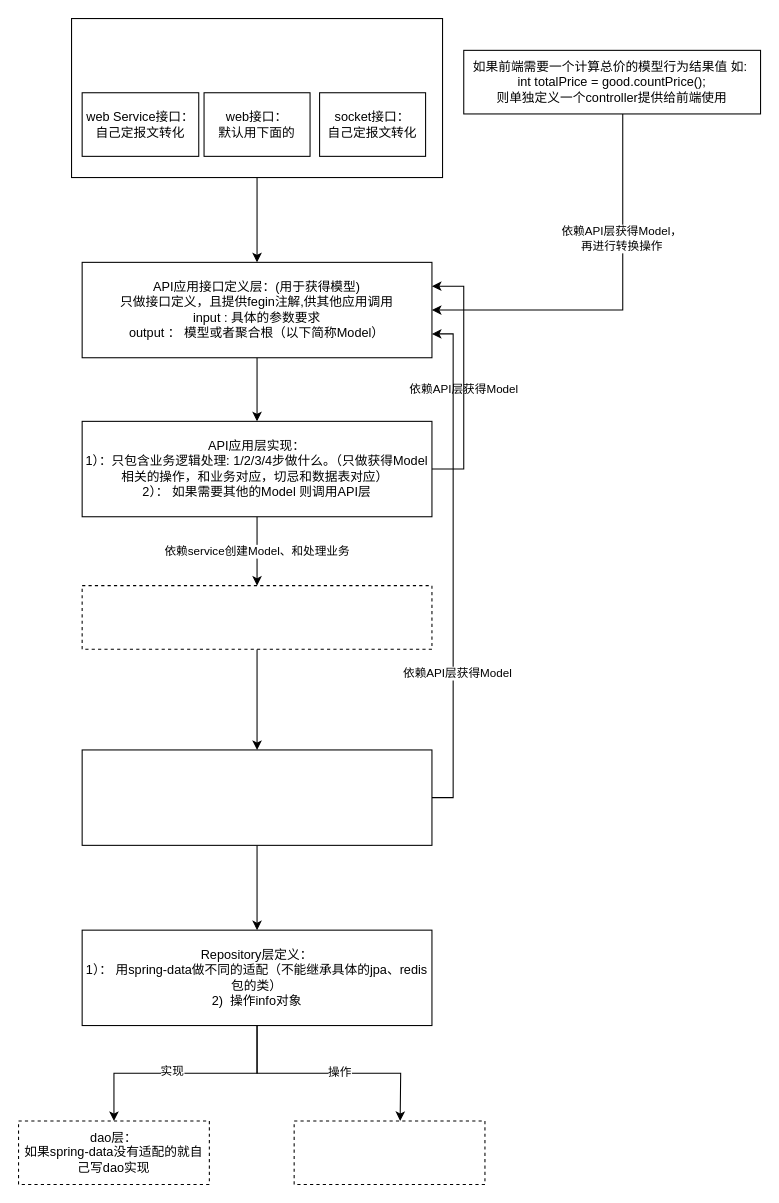
This 779x1203 diagram has some shape labels left out. Each missing label, with the box of its shape:
info类： 可以做一个抽象类,定义好属性。 依赖的注解交给子类去做。: (293, 1120, 485, 1185)
Service服务层实现： 1）： 调用Repository => Info => Model 2）： 业务处理，不同版本的处理 3) : 依赖其他领域的操作: (81, 749, 432, 845)
Service服务层接口 定义: 用于区分不同版本、不同的基础依赖 可以通过spring.getBean的操作来做自动DI。(可以没有): (81, 585, 432, 649)
表示层: (70, 17, 443, 178)
